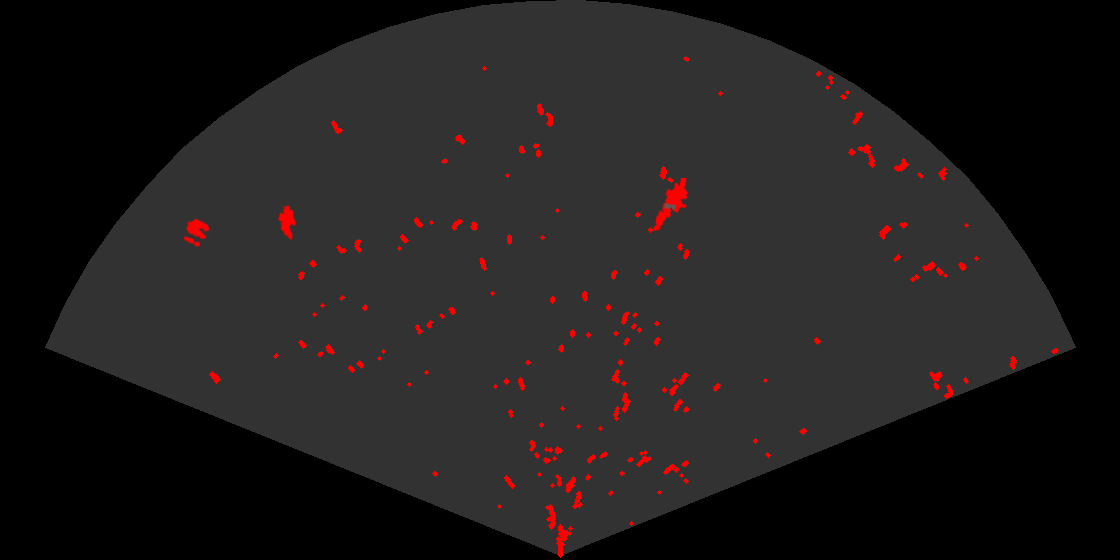AUV: (276, 203, 298, 242)
ball: (182, 217, 211, 249)
frogman: (652, 178, 690, 233)
